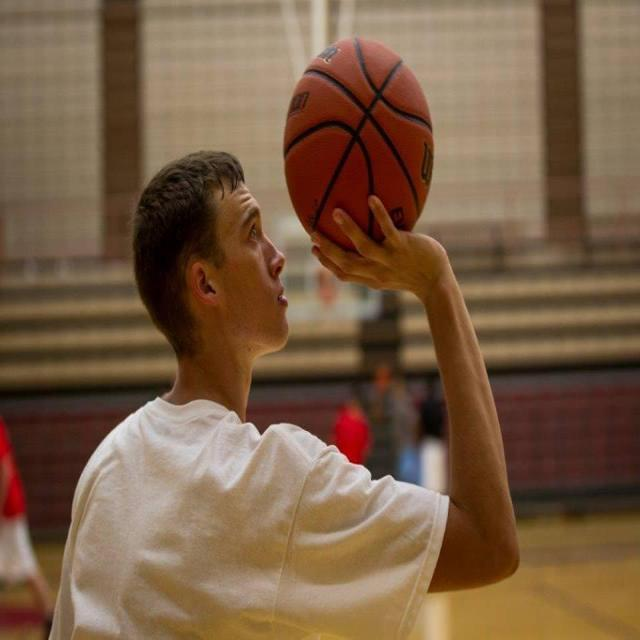Basketball: (284, 38, 434, 260)
